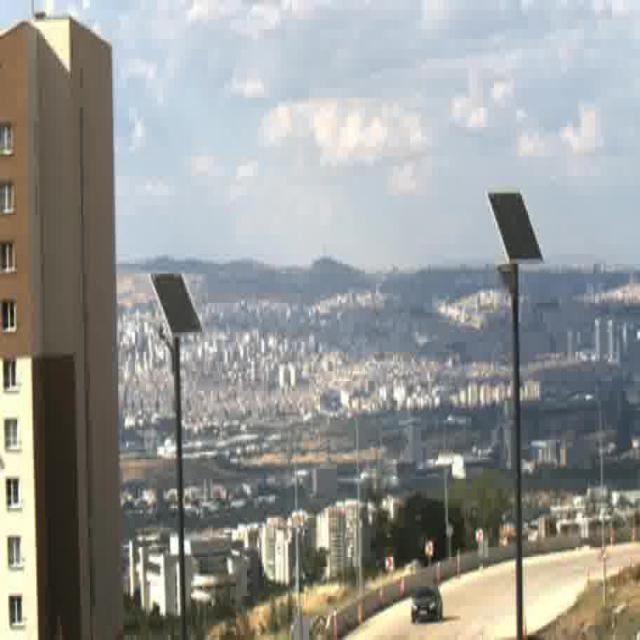Car: (411, 587, 443, 623)
